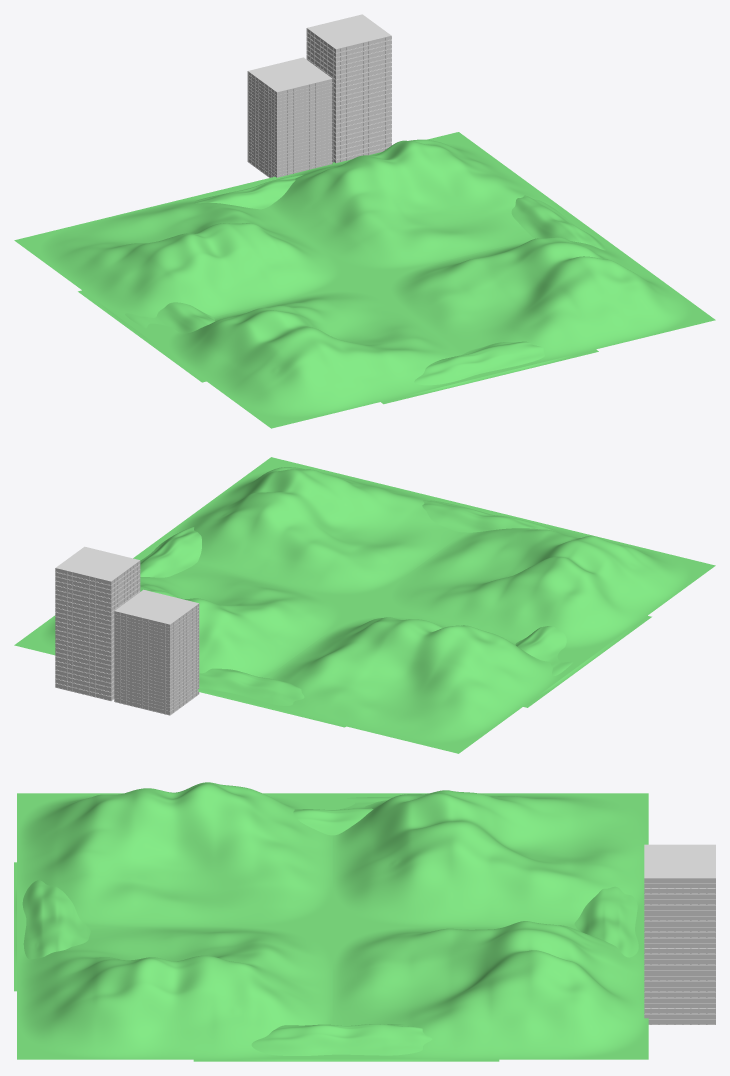
File: landscape_portfolio13.glb
3 renders of one model, top to bottom at view 1: azimuth 30°, elevation 25°; view 2: azimuth 150°, elevation 25°; view 3: azimuth 270°, elevation 25°, orthographic. The views are drawn at different scales.
Parts seen in each view (by area): view 1: Terrain, Building.001, Building; view 2: Terrain, Building.001, Building; view 3: Terrain, Building.001.
Boxes of the visible parts, bbox=[...] form: Terrain: bbox=[14, 132, 715, 428]; Building.001: bbox=[306, 14, 391, 162]; Building: bbox=[247, 57, 332, 177]; Terrain: bbox=[14, 457, 715, 753]; Building.001: bbox=[55, 546, 140, 700]; Building: bbox=[114, 589, 199, 715]; Terrain: bbox=[14, 782, 648, 1061]; Building.001: bbox=[644, 844, 715, 1024].
Bounding box in the file's own units: 141 × 36.02 × 156.
